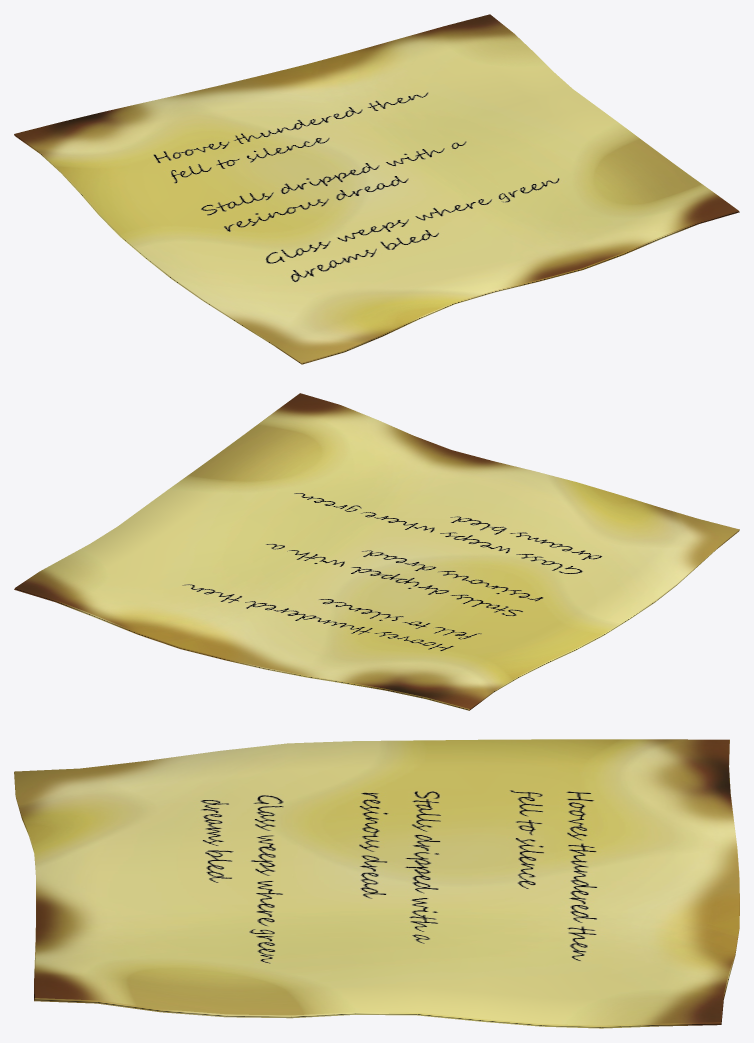
The model's file is Paper5.glb.
3 renders of one model, top to bottom at view 1: azimuth 30°, elevation 25°; view 2: azimuth 150°, elevation 25°; view 3: azimuth 270°, elevation 25°, orthographic. The views are drawn at different scales.
Visible parts, largest first — view 1: Plane; view 2: Plane; view 3: Plane.
Part boxes in pixels (x1,y1,x2,y2): Plane: (14,14,739,364); Plane: (14,393,739,710); Plane: (14,739,739,1028).
Size of the model in its own units: 0.8607 by 0.0672 by 0.8722.
1 material, 1 textured.
